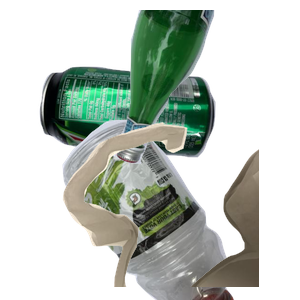glass: (109, 10, 300, 167)
metal: (37, 64, 245, 214)
plastic: (25, 120, 252, 300)
trash: (60, 120, 300, 300)
